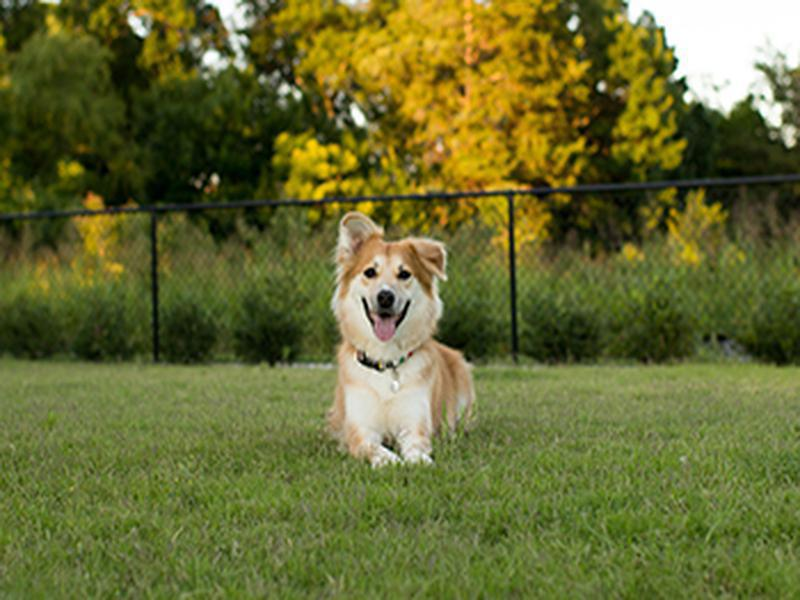dog_down: (331, 213, 477, 477)
